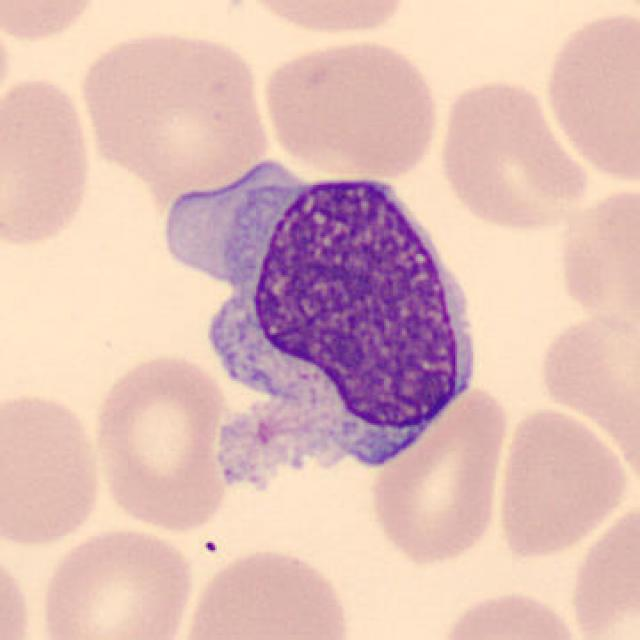Monocyte: (164, 155, 492, 497)
RBC: (75, 25, 272, 190), (364, 381, 512, 569), (87, 347, 233, 536), (258, 33, 444, 180), (434, 74, 592, 236), (491, 402, 631, 562), (531, 312, 640, 491), (36, 522, 198, 640), (538, 3, 640, 188), (0, 72, 98, 254), (174, 543, 356, 640), (0, 386, 107, 550), (553, 178, 640, 340), (566, 495, 638, 640), (434, 585, 585, 640), (231, 0, 418, 39), (0, 0, 107, 46), (0, 537, 37, 640)
